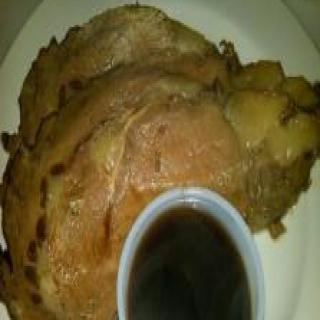rib: (0, 2, 320, 320)
